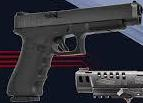gun: (1, 1, 143, 103)
